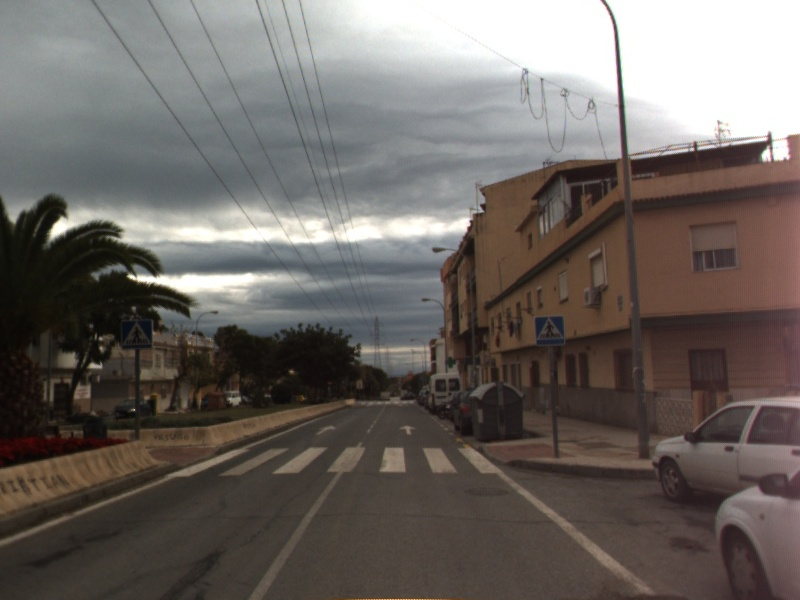STRAIGHT: (313, 422, 338, 437), (398, 423, 418, 437)
